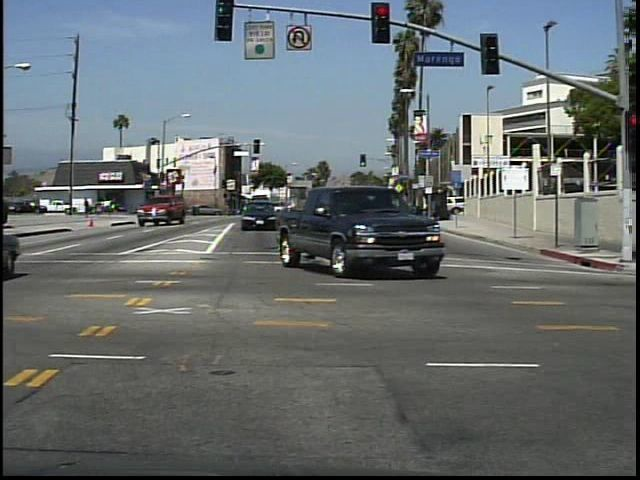person: (82, 196, 95, 221)
